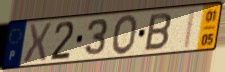2: (48, 20, 76, 62)
3: (84, 18, 111, 58)
B: (143, 12, 173, 53)
I: (181, 8, 198, 51)
O: (110, 13, 139, 57)
X: (22, 21, 54, 65)
